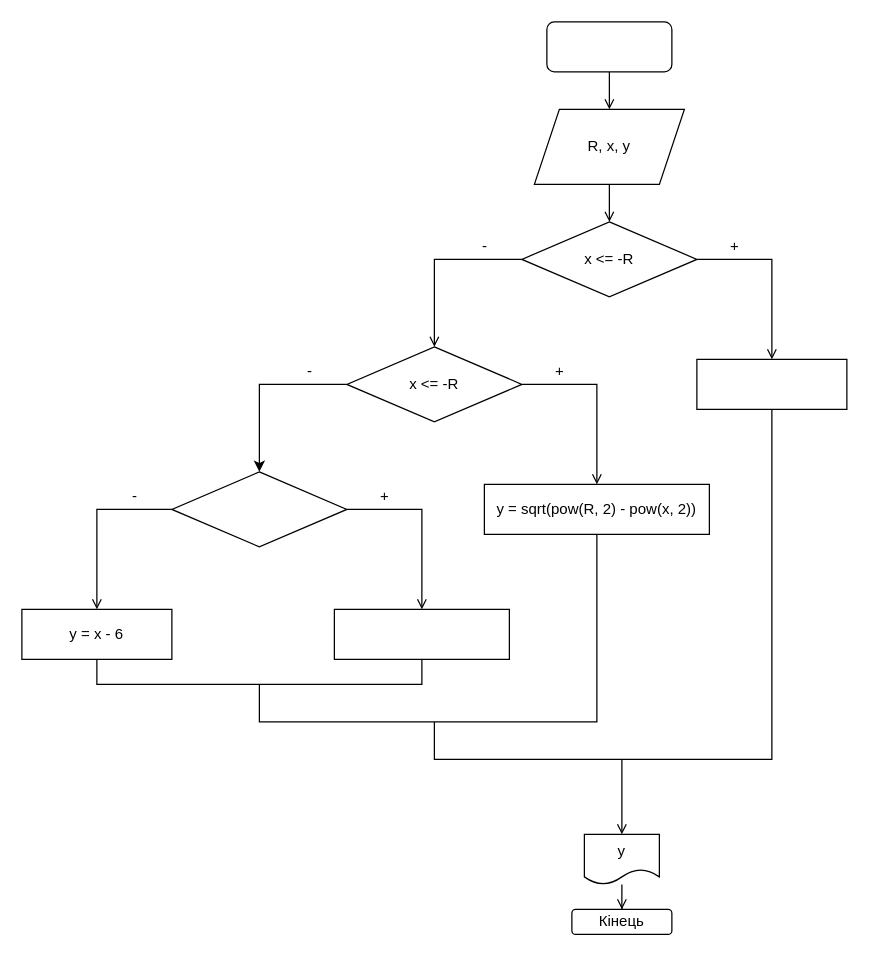
Some shapes in this 869 by 956 pixel diagram are drawn without their labels. Here are the shapes that lost their labels. From the top down, the centre of each, then its label:
point 609,46: Початок
point 771,383: y = x + R
point 259,509: x > 0 && x <= 6
point 421,633: y = R - (R * x) / 6
